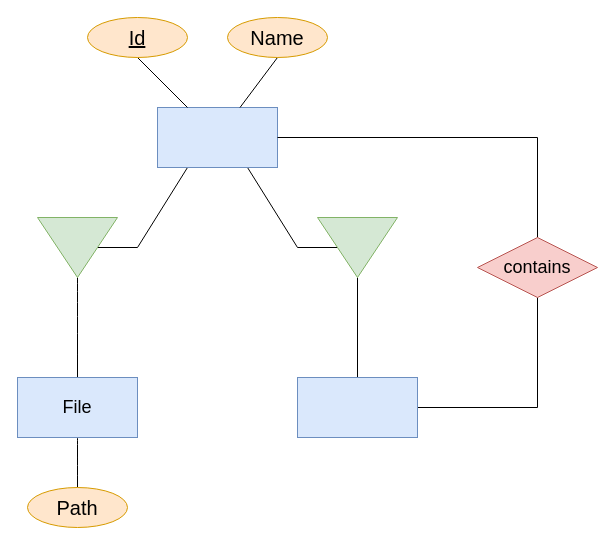
The diagram is 615 pixels wide and 545 high, and some of its shapes have lost their labels. Here are the shapes that lost their labels. From the top down, the centre of each, then its label:
(217,137): Library Element
(357,407): Category
